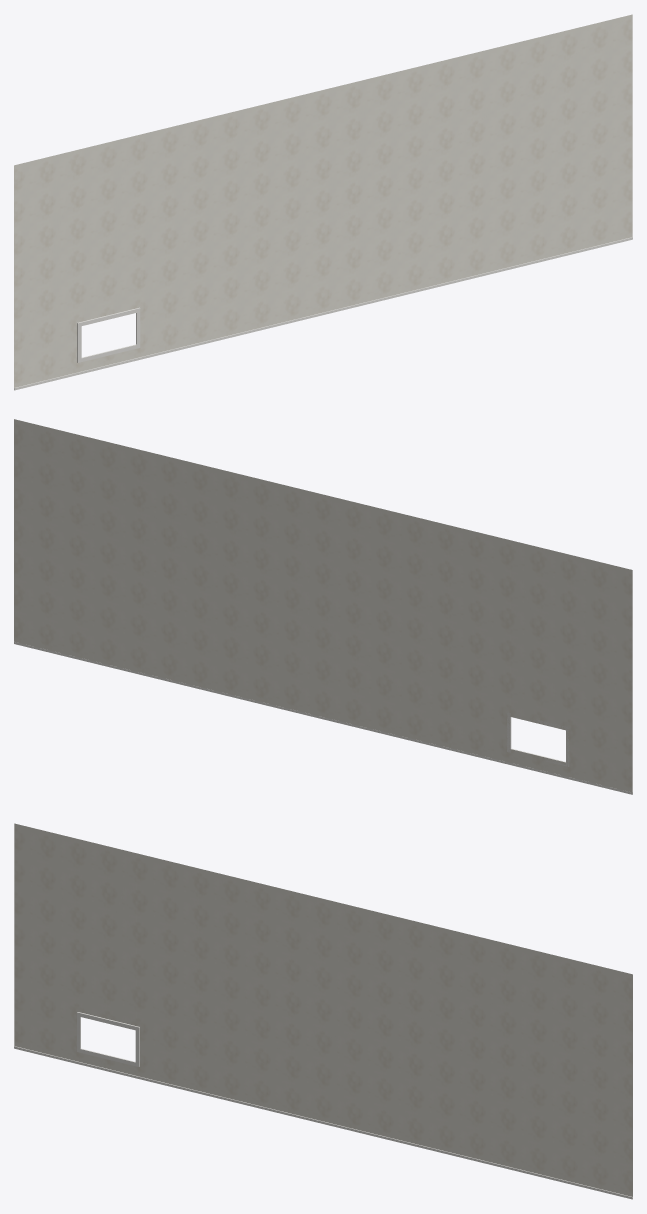
3 views of the same model, one above another, from view 1: azimuth 30°, elevation 25°; view 2: azimuth 150°, elevation 25°; view 3: azimuth 330°, elevation 25° (orthographic).
Parts seen in each view (by area): view 1: jx_wm_40_0f120190; view 2: jx_wm_40_0f120190; view 3: jx_wm_40_0f120190.
Part boxes in pixels (box(x1,y1,x2,y2)): jx_wm_40_0f120190: box(14, 14, 632, 390); jx_wm_40_0f120190: box(14, 419, 632, 794); jx_wm_40_0f120190: box(14, 823, 632, 1199).
Bounding box in the file's own units: 40.3 × 14 × 0.086.
2 materials, 2 textured.
